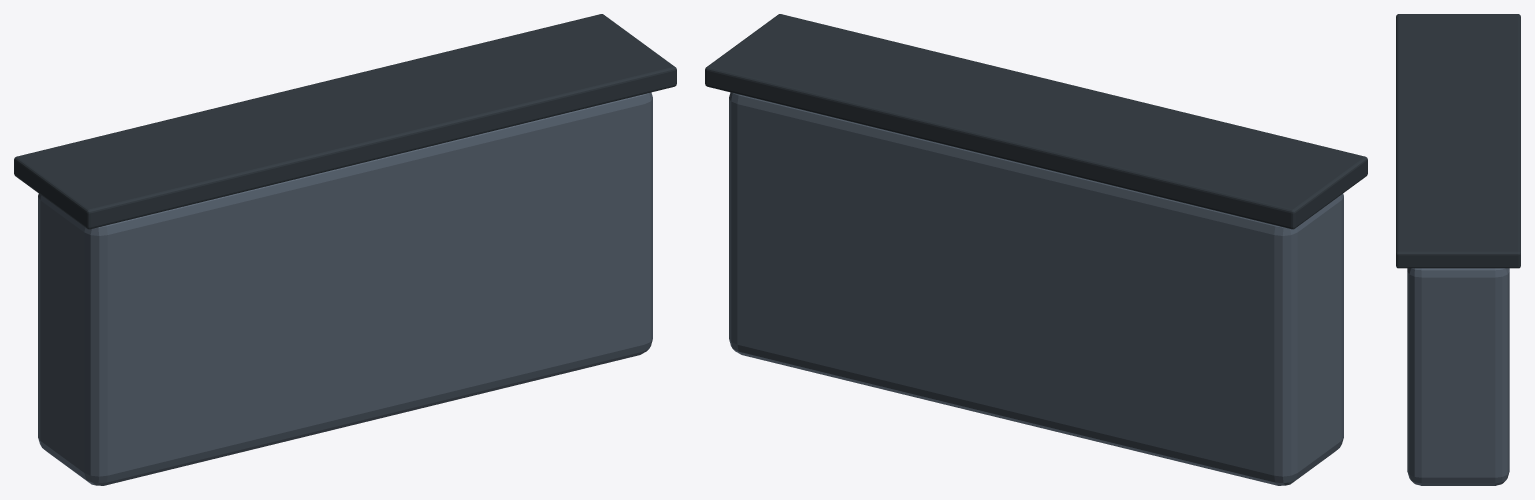
Rendered from prop_cover.glb.
3 views of the same model, side by side, from view 1: azimuth 30°, elevation 25°; view 2: azimuth 150°, elevation 25°; view 3: azimuth 270°, elevation 25° (orthographic). The views are drawn at different scales.
Visible parts, largest first — view 1: prop_cover; view 2: prop_cover; view 3: prop_cover.
Part boxes in pixels (x1=…): prop_cover: x1=14, y1=14, x2=676, y2=485; prop_cover: x1=705, y1=14, x2=1367, y2=485; prop_cover: x1=1396, y1=14, x2=1520, y2=485.
Size of the model in its own units: 2.5 by 1.18 by 0.55.
